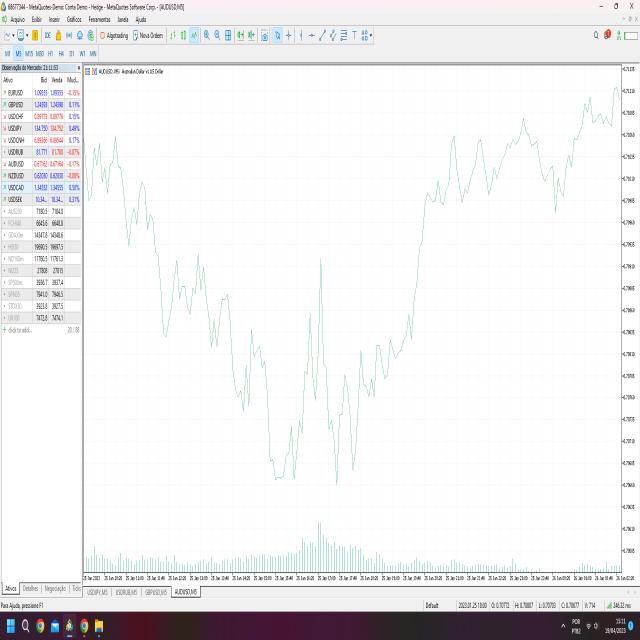fundo_duplo: (319, 359, 364, 499)
oco: (126, 163, 164, 274)
